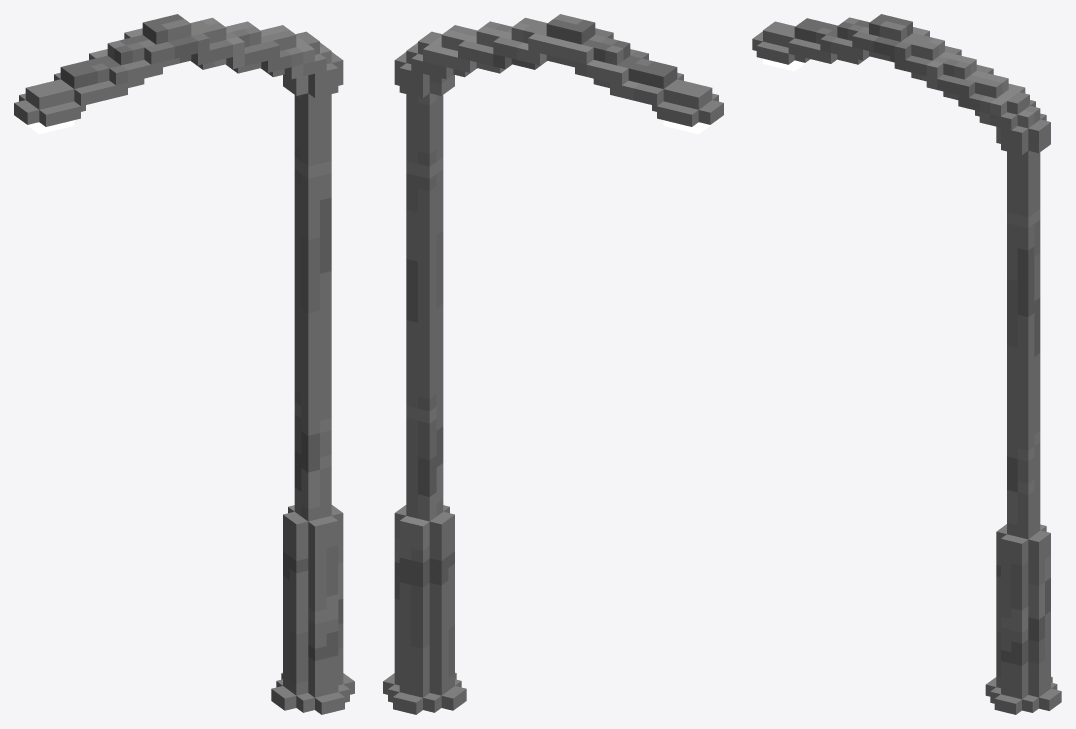
File: street_lamp.gltf
3 views of the same model, side by side, from view 1: azimuth 30°, elevation 25°; view 2: azimuth 150°, elevation 25°; view 3: azimuth 330°, elevation 25° (orthographic). The views are drawn at different scales.
Parts seen in each view (by area): view 1: Layer.1; view 2: Layer.1; view 3: Layer.1.
Part boxes in pixels (bbox=[...]): Layer.1: bbox=[14, 14, 354, 714]; Layer.1: bbox=[383, 14, 723, 714]; Layer.1: bbox=[752, 14, 1061, 714].
Bounding box in the file's own units: 28 × 58 × 6.
Materials: 2 (2 with a texture image).
